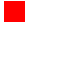square: (4, 1, 24, 21)
